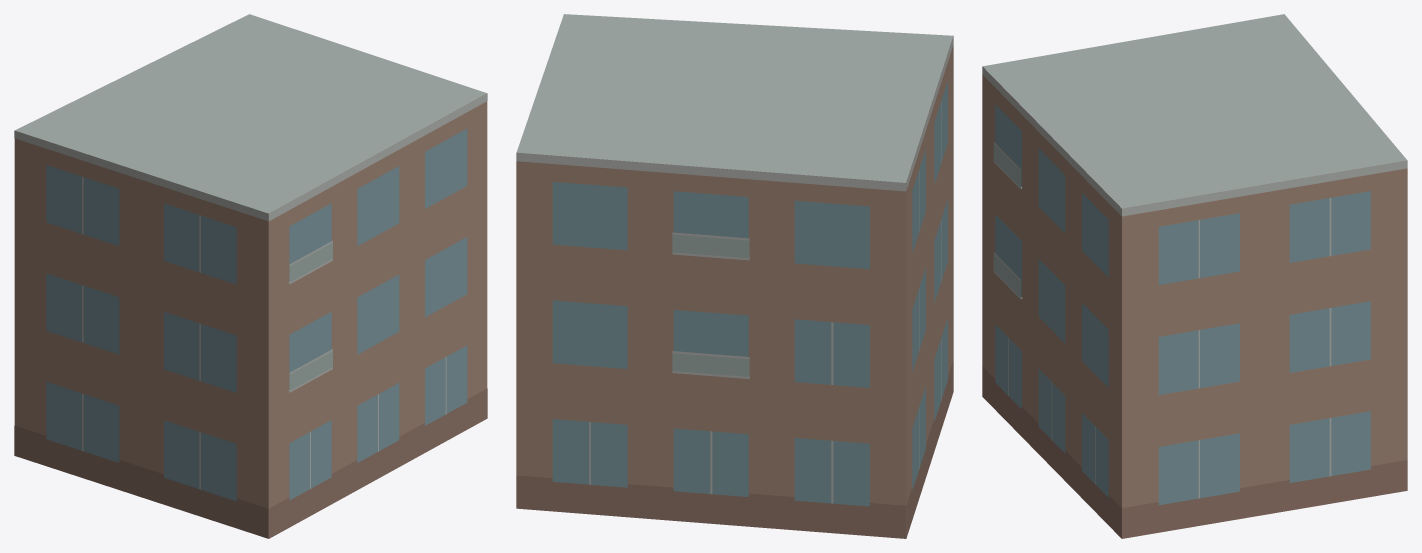
The model's file is survey-upis-32636205.glb.
The picture shows the model from 3 angles, left to right: view 1: azimuth 30°, elevation 25°; view 2: azimuth 150°, elevation 25°; view 3: azimuth 270°, elevation 25°; orthographic projection. The views are drawn at different scales.
Visible parts, largest first — view 1: survey-upis-32636205.tmp; view 2: survey-upis-32636205.tmp; view 3: survey-upis-32636205.tmp.
Boxes of the visible parts, bbox=[...] form: survey-upis-32636205.tmp: bbox=[14, 14, 487, 538]; survey-upis-32636205.tmp: bbox=[516, 14, 953, 538]; survey-upis-32636205.tmp: bbox=[982, 14, 1407, 538].
Size of the model in its own units: 12.9 by 10.2 by 11.91.
